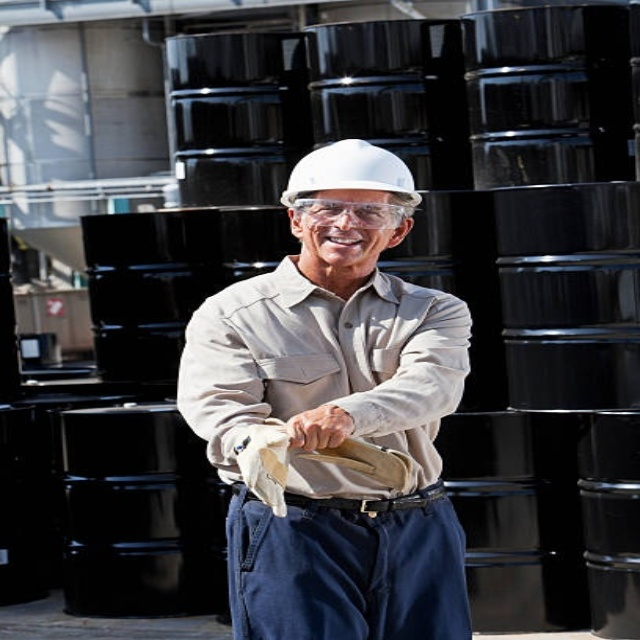Gafas: (291, 198, 411, 230)
Guantes: (223, 419, 298, 517)
Sin_guantes: (284, 404, 354, 453)
Sin_mascara: (317, 230, 367, 259)
